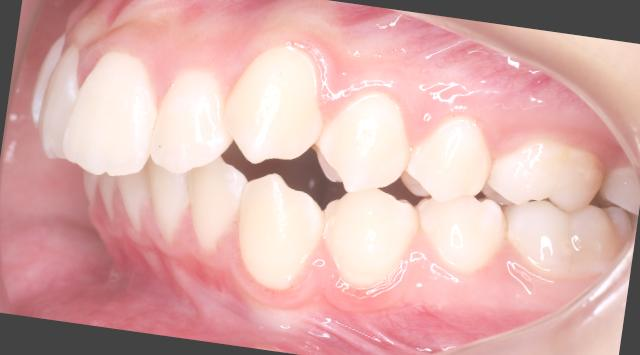canine class II 3/4: (197, 32, 439, 320)
molar class II 3/4: (476, 116, 640, 293)
